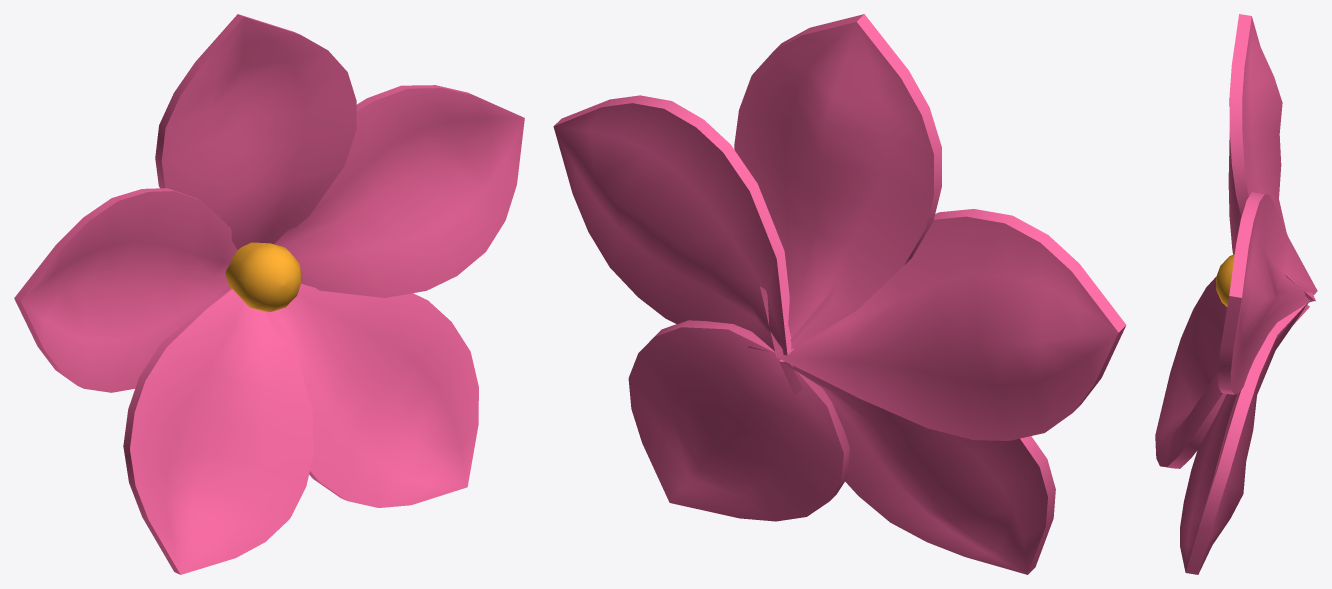
The model's file is Cake_items_Flower-B.FBX.
The picture shows the model from 3 angles, left to right: view 1: azimuth 30°, elevation 25°; view 2: azimuth 150°, elevation 25°; view 3: azimuth 270°, elevation 25°; orthographic projection. The views are drawn at different scales.
Parts seen in each view (by area): view 1: Cake_items_Flower-B; view 2: Cake_items_Flower-B; view 3: Cake_items_Flower-B.
Part boxes in pixels (left/top/right/bottom): Cake_items_Flower-B: left=14, top=14, right=524, bottom=574; Cake_items_Flower-B: left=553, top=14, right=1126, bottom=574; Cake_items_Flower-B: left=1155, top=14, right=1317, bottom=574.
Size of the model in its own units: 2068 by 1964 by 611.
